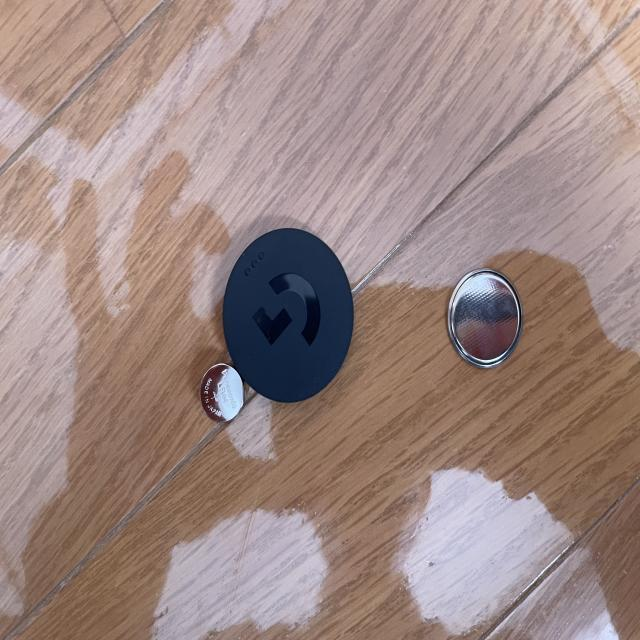COIN: (446, 268, 522, 370), (200, 363, 245, 422)
